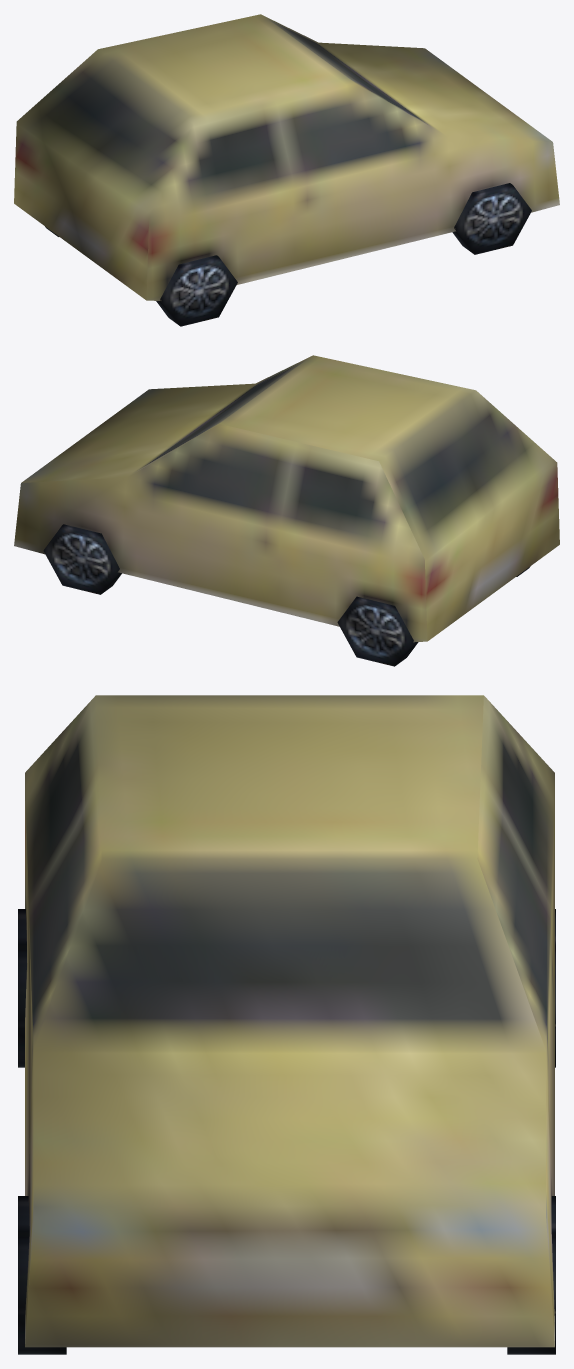
Rendered from CompactCar_B.original.fbx.
3 views of the same model, one above another, from view 1: azimuth 30°, elevation 25°; view 2: azimuth 150°, elevation 25°; view 3: azimuth 270°, elevation 25° (orthographic). The views are drawn at different scales.
Visible parts, largest first — view 1: Compactcar_B.original; view 2: Compactcar_B.original; view 3: Compactcar_B.original.
Boxes of the visible parts, x1,y1,x2,y2 form: Compactcar_B.original: (14,14,559,326); Compactcar_B.original: (14,355,559,666); Compactcar_B.original: (18,695,555,1354).
Bounding box in the file's own units: 413 × 176 × 233.
